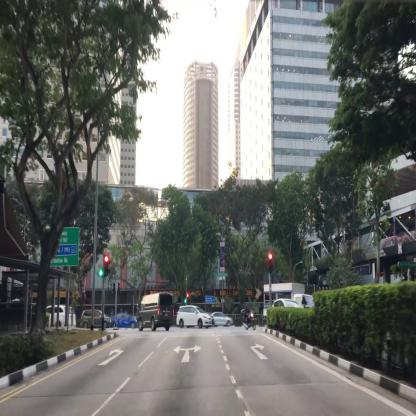red_traffic_light: (104, 255, 108, 276), (268, 252, 272, 273)
